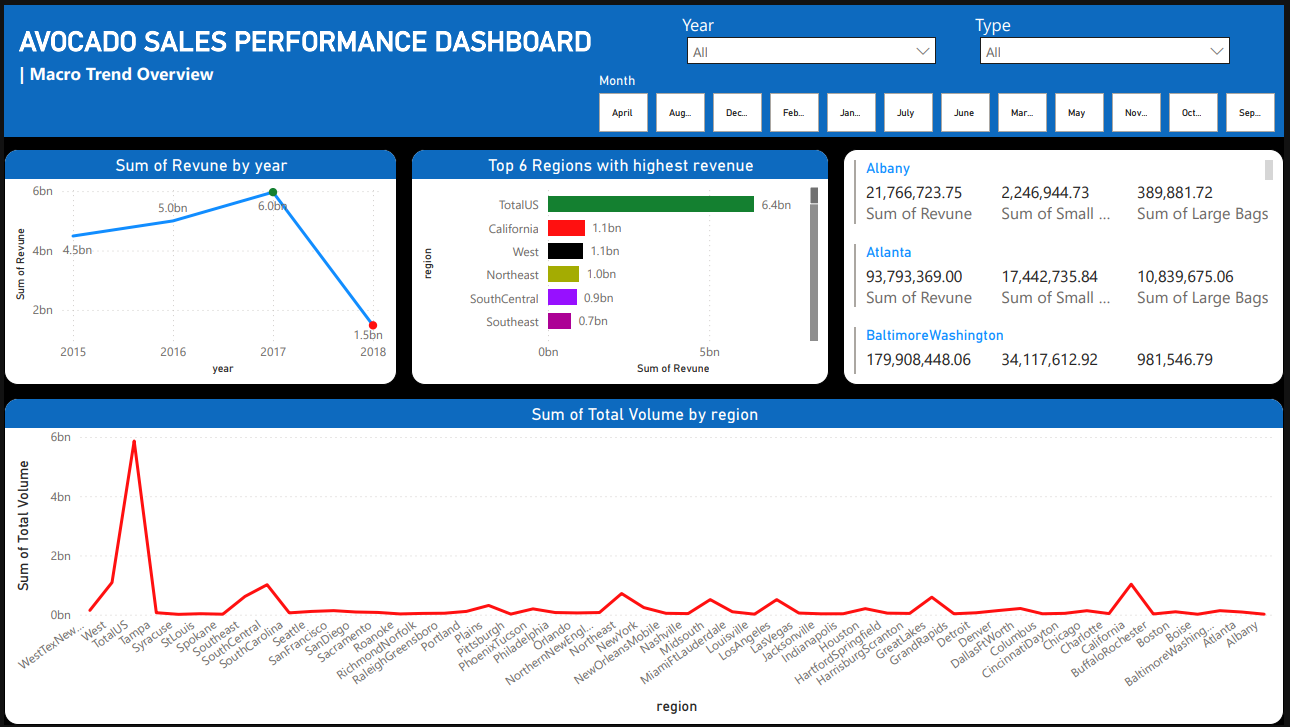

The page's visual inventory and layout, read from the dashboard file:
{"tool":"powerbi","page":{"name":"Macro Trend Analysis","canvas":[1280,720],"ordinal":0},"visuals":[{"type":"lineChart","fields":{"Category":["Table1.region"],"Y":["Sum(Table1.Total Volume)"]},"box":[0,393.2,1279.7,327.1],"z":0},{"type":"textbox","title":"AVOCADO SALES PERFORMANCE DASHBOARD","box":[0,0,1279.7,132],"z":1000},{"type":"lineChart","fields":{"Y":["Sum(Table1.Revune)"],"Category":["Table1.year"]},"box":[0,144.1,393.2,235.6],"z":2000},{"type":"clusteredBarChart","title":"Top 6 Regions with highest revenue","fields":{"Y":["Sum(Table1.Revune)"],"Category":["Table1.region"]},"box":[406.8,144.1,418.6,235.6],"z":3000},{"type":"slicer","title":"Year","fields":{"Values":["Table1.year"]},"box":[672.9,6.8,269.5,59.3],"z":4000},{"type":"slicer","title":"Type","fields":{"Values":["Table1.type"]},"box":[966.1,6.8,269.5,59.3],"z":5000},{"type":"multiRowCard","title":"Top 6 Regions with highest revenue","fields":{"Values":["Table1.region","Sum(Table1.Revune)","Sum(Table1.Small Bags)","Sum(Table1.Large Bags)"]},"box":[839,144.1,440.7,235.6],"z":5001},{"type":"advancedSlicerVisual","fields":{"Values":["Table1.Month"]},"box":[589.8,67.8,689.8,64.4],"z":5002}]}

Visuals, with their boxes in screenshot pixels (x1, y1, x2, y2), scaled from the page's 1280x720 canvas onto the 1290x727 screenshot:
lineChart - Table1.region x Sum(Table1.Total Volume): crop(0, 397, 1289, 726)
"AVOCADO SALES PERFORMANCE DASHBOARD" textbox: crop(0, 0, 1289, 133)
lineChart - Sum(Table1.Revune) x Table1.year: crop(0, 146, 396, 383)
"Top 6 Regions with highest revenue" clusteredBarChart: crop(410, 146, 832, 383)
"Year" slicer: crop(678, 7, 950, 67)
"Type" slicer: crop(974, 7, 1245, 67)
"Top 6 Regions with highest revenue" multiRowCard: crop(846, 146, 1289, 383)
advancedSlicerVisual - Table1.Month: crop(594, 68, 1289, 133)
